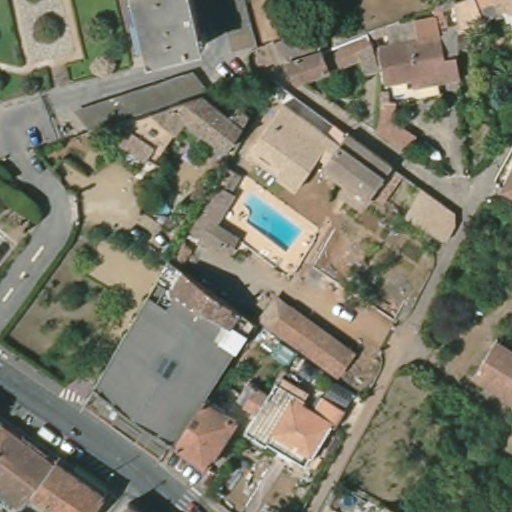pool: (238, 195, 304, 251)
